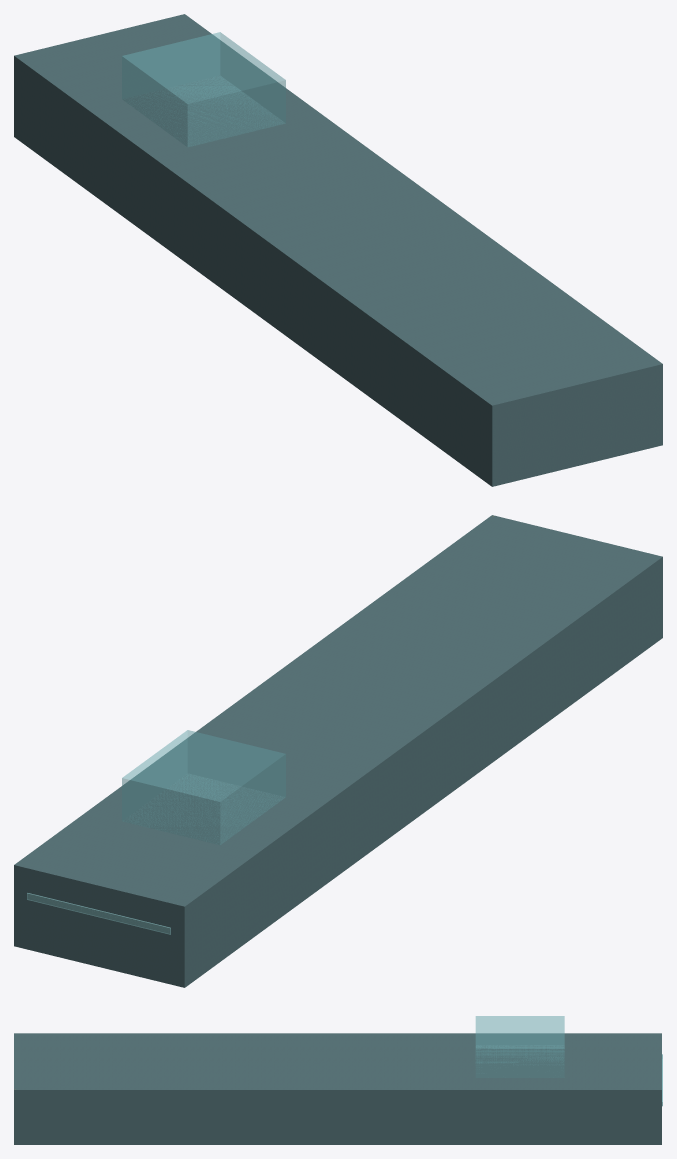
3 renders of one model, top to bottom at view 1: azimuth 30°, elevation 25°; view 2: azimuth 150°, elevation 25°; view 3: azimuth 270°, elevation 25°, orthographic. The views are drawn at different scales.
Parts seen in each view (by area): view 1: 原三盒载具代理尺寸派生; view 2: 原三盒载具代理尺寸派生; view 3: 原三盒载具代理尺寸派生.
Part boxes in pixels (box(x1,y1,x2,y2)): 原三盒载具代理尺寸派生: box(14, 14, 662, 486); 原三盒载具代理尺寸派生: box(14, 515, 662, 987); 原三盒载具代理尺寸派生: box(14, 1016, 662, 1144).
Bounding box in the file's own units: 3.3 × 2.3 × 16.02.
4 materials, 4 textured.
